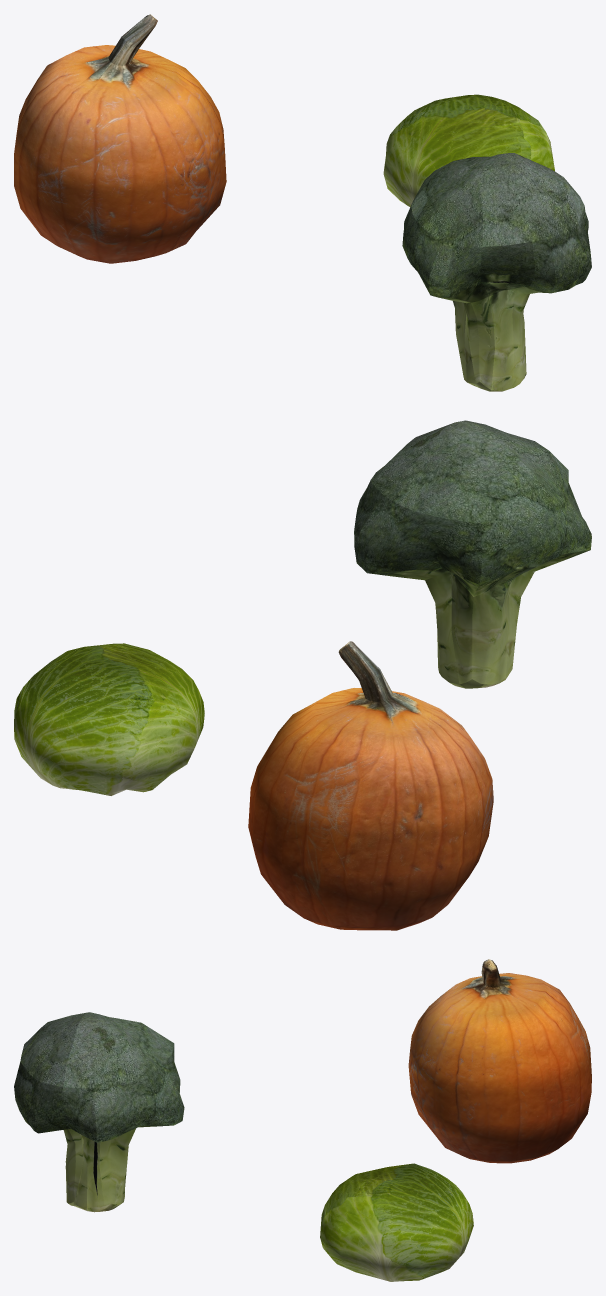
File: veg.fbx
3 views of the same model, one above another, from view 1: azimuth 30°, elevation 25°; view 2: azimuth 150°, elevation 25°; view 3: azimuth 270°, elevation 25° (orthographic). The views are drawn at different scales.
Parts seen in each view (by area): view 1: Pumpkin2, Broccoli1, Cabbage1; view 2: Pumpkin2, Broccoli1, Cabbage1; view 3: Pumpkin2, Broccoli1, Cabbage1.
Part boxes in pixels (x1,y1,x2,y2): Pumpkin2: (14,14,226,263); Broccoli1: (402,153,591,391); Cabbage1: (383,94,554,206); Pumpkin2: (248,641,493,930); Broccoli1: (354,420,591,688); Cabbage1: (14,643,204,795); Pumpkin2: (408,959,591,1163); Broccoli1: (14,1012,184,1212); Cabbage1: (320,1163,473,1281).
Bounding box in the file's own units: 51.83 × 24.81 × 65.5.
3 materials, 3 textured.
